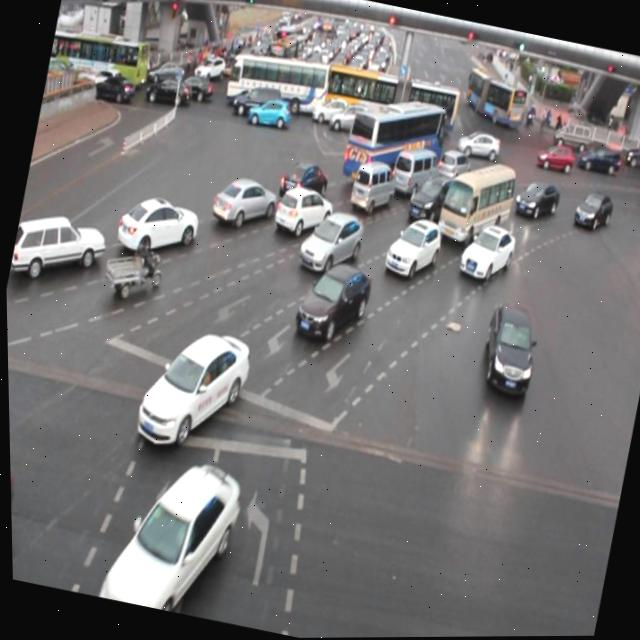car: (90, 445, 245, 622), (126, 317, 258, 467), (6, 204, 109, 292), (289, 259, 374, 349), (472, 293, 543, 399), (111, 188, 202, 266), (294, 202, 366, 276), (205, 168, 280, 235), (379, 209, 444, 283), (453, 220, 520, 285), (272, 180, 334, 242), (275, 157, 331, 210), (402, 167, 454, 223), (509, 175, 560, 227), (569, 187, 613, 236), (431, 146, 471, 192)
truck: (435, 154, 519, 250), (385, 143, 444, 205), (345, 159, 398, 217)
van: (337, 90, 451, 202)
